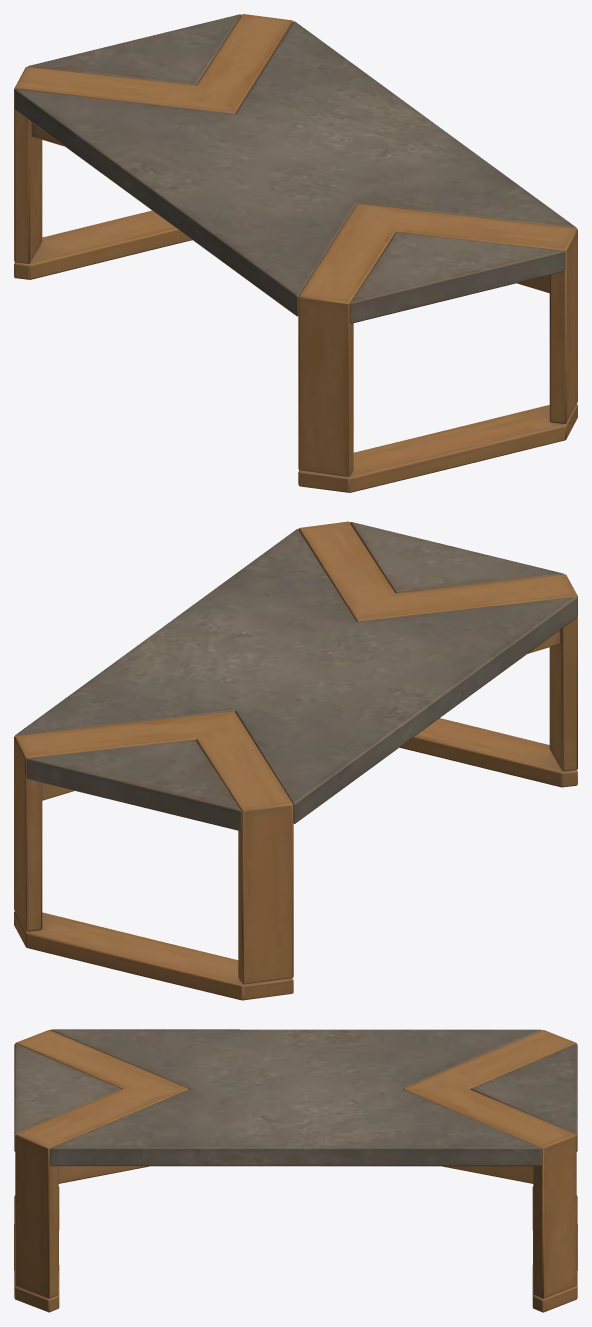
Rendered from coffeeTable.glb.
The picture shows the model from 3 angles, top to bottom: view 1: azimuth 30°, elevation 25°; view 2: azimuth 150°, elevation 25°; view 3: azimuth 270°, elevation 25°; orthographic projection. The views are drawn at different scales.
Visible parts, largest first — view 1: modern_coffee_table_01; view 2: modern_coffee_table_01; view 3: modern_coffee_table_01.
Boxes of the visible parts, x1=… form: modern_coffee_table_01: x1=14, y1=14, x2=577, y2=492; modern_coffee_table_01: x1=14, y1=521, x2=577, y2=1000; modern_coffee_table_01: x1=14, y1=1029, x2=577, y2=1312.
Bounding box in the file's own units: 0.6 × 0.39 × 1.2.
1 material, 1 textured.
